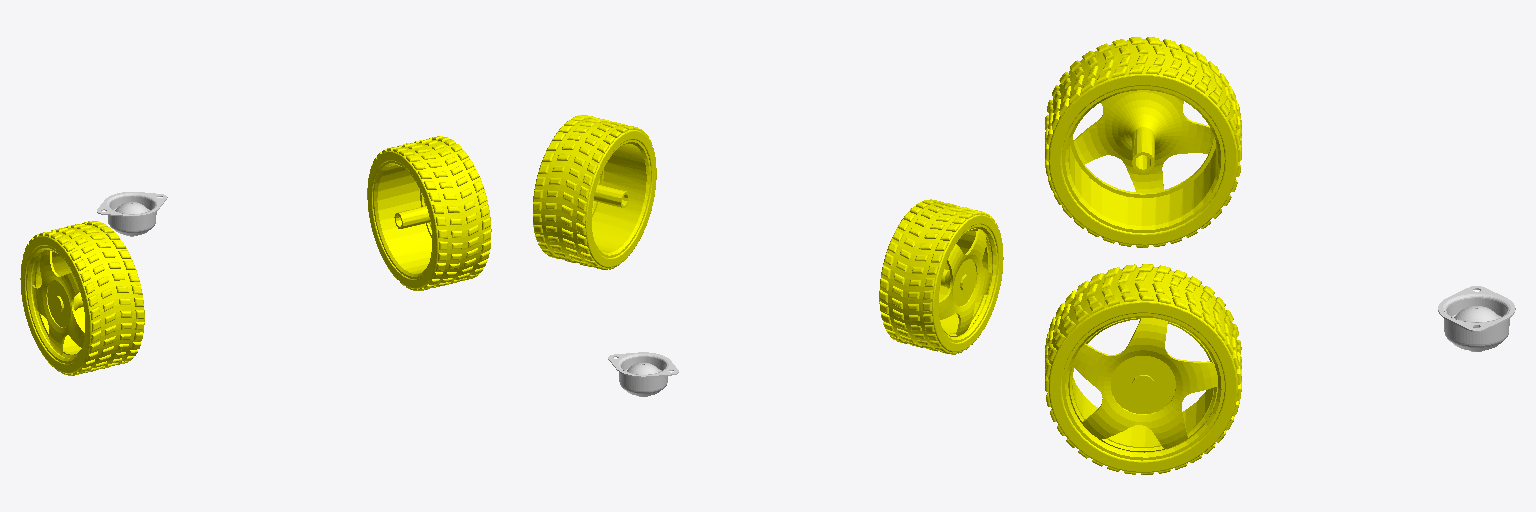
The robot description file, URDF, robot "URDF":
<?xml version="1.0" encoding="utf-8"?>
<!-- This URDF was automatically created by SolidWorks to URDF Exporter! Originally created by [author] ([email redacted]) 
     Commit Version: 1.6.0-4-g7f85cfe  Build Version: 1.6.7995.38578
     For more information, please see http://wiki.ros.org/sw_urdf_exporter -->
<robot
  name="URDF">
  <link
    name="base_link">
    <inertial>
      <origin
        xyz="0.082715 0.098266 0.1941"
        rpy="0 0 0" />
      <mass
        value="0.44989" />
      <inertia
        ixx="0.001472"
        ixy="-7.3863E-09"
        ixz="-1.5206E-07"
        iyy="0.0022027"
        iyz="-1.6436E-06"
        izz="0.00074159" />
    </inertial>
    <visual>
      <origin
        xyz="0 0 0"
        rpy="0 0 0" />
      <geometry>
        <mesh
          filename="package://URDF/meshes/base_link.STL" />
      </geometry>
      <material
        name="">
        <color
          rgba="0.53725 0.34902 0.33725 1" />
      </material>
    </visual>
    <collision>
      <origin
        xyz="0 0 0"
        rpy="0 0 0" />
      <geometry>
        <mesh
          filename="package://URDF/meshes/base_link.STL" />
      </geometry>
    </collision>
  </link>
  <link
    name="Roda1_Link">
    <inertial>
      <origin
        xyz="-6.5174E-10 3.7783E-09 0.017937"
        rpy="0 0 0" />
      <mass
        value="0.050589" />
      <inertia
        ixx="2.8263E-05"
        ixy="8.4339E-13"
        ixz="8.5498E-13"
        iyy="2.8263E-05"
        iyz="-2.16E-12"
        izz="4.8345E-05" />
    </inertial>
    <visual>
      <origin
        xyz="0 0 0"
        rpy="0 0 0" />
      <geometry>
        <mesh
          filename="package://URDF/meshes/Roda1_Link.STL" />
      </geometry>
      <material
        name="">
        <color
          rgba="1 1 0 1" />
      </material>
    </visual>
    <collision>
      <origin
        xyz="0 0 0"
        rpy="0 0 0" />
      <geometry>
        <mesh
          filename="package://URDF/meshes/Roda1_Link.STL" />
      </geometry>
    </collision>
  </link>
  <joint
    name="1"
    type="revolute">
    <origin
      xyz="0.16374 -0.25557 0.1114"
      rpy="1.5708 -1.1623 1.5708" />
    <parent
      link="base_link" />
    <child
      link="Roda1_Link" />
    <axis
      xyz="0 0 1" />
    <limit
      lower="0"
      upper="0"
      effort="0"
      velocity="0" />
  </joint>
  <link
    name="Roda2_Link">
    <inertial>
      <origin
        xyz="-2.5376E-09 -1.8066E-09 0.015802"
        rpy="0 0 0" />
      <mass
        value="0.050589" />
      <inertia
        ixx="2.8263E-05"
        ixy="-2.3387E-12"
        ixz="1.7915E-12"
        iyy="2.8263E-05"
        iyz="1.1895E-12"
        izz="4.8345E-05" />
    </inertial>
    <visual>
      <origin
        xyz="0 0 0"
        rpy="0 0 0" />
      <geometry>
        <mesh
          filename="package://URDF/meshes/Roda2_Link.STL" />
      </geometry>
      <material
        name="">
        <color
          rgba="1 1 0 1" />
      </material>
    </visual>
    <collision>
      <origin
        xyz="0 0 0"
        rpy="0 0 0" />
      <geometry>
        <mesh
          filename="package://URDF/meshes/Roda2_Link.STL" />
      </geometry>
    </collision>
  </link>
  <joint
    name="2"
    type="revolute">
    <origin
      xyz="0 -0.25557 0.1114"
      rpy="1.5708 -0.58968 -1.5708" />
    <parent
      link="base_link" />
    <child
      link="Roda2_Link" />
    <axis
      xyz="0 0 1" />
    <limit
      lower="0"
      upper="0"
      effort="0"
      velocity="0" />
  </joint>
  <link
    name="Suporte1_Link">
    <inertial>
      <origin
        xyz="6.9389E-17 0.010443 0"
        rpy="0 0 0" />
      <mass
        value="0.0058068" />
      <inertia
        ixx="4.7315E-07"
        ixy="5.5229E-22"
        ixz="5.9902E-23"
        iyy="8.0601E-07"
        iyz="1.415E-22"
        izz="5.6694E-07" />
    </inertial>
    <visual>
      <origin
        xyz="0 0 0"
        rpy="0 0 0" />
      <geometry>
        <mesh
          filename="package://URDF/meshes/Suporte1_Link.STL" />
      </geometry>
      <material
        name="">
        <color
          rgba="0.89804 0.89804 0.89804 1" />
      </material>
    </visual>
    <collision>
      <origin
        xyz="0 0 0"
        rpy="0 0 0" />
      <geometry>
        <mesh
          filename="package://URDF/meshes/Suporte1_Link.STL" />
      </geometry>
    </collision>
  </link>
  <joint
    name="3"
    type="fixed">
    <origin
      xyz="0.083085 -0.13382 0.094937"
      rpy="-1.5708 0 0" />
    <parent
      link="base_link" />
    <child
      link="Suporte1_Link" />
    <axis
      xyz="0 0 0" />
  </joint>
  <link
    name="Suporte2_Link">
    <inertial>
      <origin
        xyz="2.7756E-17 -0.0018442 0"
        rpy="0 0 0" />
      <mass
        value="0.0041821" />
      <inertia
        ixx="2.0974E-07"
        ixy="-8.1817E-24"
        ixz="1.1911E-22"
        iyy="3.8569E-07"
        iyz="2.3864E-23"
        izz="2.0974E-07" />
    </inertial>
    <visual>
      <origin
        xyz="0 0 0"
        rpy="0 0 0" />
      <geometry>
        <mesh
          filename="package://URDF/meshes/Suporte2_Link.STL" />
      </geometry>
      <material
        name="">
        <color
          rgba="0.89804 0.89804 0.89804 1" />
      </material>
    </visual>
    <collision>
      <origin
        xyz="0 0 0"
        rpy="0 0 0" />
      <geometry>
        <mesh
          filename="package://URDF/meshes/Suporte2_Link.STL" />
      </geometry>
    </collision>
  </link>
  <joint
    name="4"
    type="fixed">
    <origin
      xyz="0.083085 -0.13382 0.084937"
      rpy="-1.5708 0 2.5629" />
    <parent
      link="base_link" />
    <child
      link="Suporte2_Link" />
    <axis
      xyz="0 0 0" />
  </joint>
  <link
    name="Esfera_Link">
    <inertial>
      <origin
        xyz="0.0025946 -0.00054108 0.0020019"
        rpy="0 0 0" />
      <mass
        value="0.010855" />
      <inertia
        ixx="2.0829E-07"
        ixy="-4.9631E-23"
        ixz="1.9852E-23"
        iyy="2.0829E-07"
        iyz="-6.6174E-24"
        izz="2.0829E-07" />
    </inertial>
    <visual>
      <origin
        xyz="0 0 0"
        rpy="0 0 0" />
      <geometry>
        <mesh
          filename="package://URDF/meshes/Esfera_Link.STL" />
      </geometry>
      <material
        name="">
        <color
          rgba="0.89804 0.89804 0.89804 1" />
      </material>
    </visual>
    <collision>
      <origin
        xyz="0 0 0"
        rpy="0 0 0" />
      <geometry>
        <mesh
          filename="package://URDF/meshes/Esfera_Link.STL" />
      </geometry>
    </collision>
  </link>
  <joint
    name="5"
    type="continuous">
    <origin
      xyz="0 0.0013305 0"
      rpy="-0.053191 0.6634 1.7018" />
    <parent
      link="Suporte2_Link" />
    <child
      link="Esfera_Link" />
    <axis
      xyz="0.45924 -0.50408 -0.73144" />
  </joint>
</robot>

--- Render facts (derived) ---
Views: 3 orthographic renders of the robot side by side, from view 1: azimuth 30°, elevation 25°; view 2: azimuth 150°, elevation 25°; view 3: azimuth 270°, elevation 25°.
Robot: URDF — 6 links, 5 joints (2 revolute, 1 continuous, 2 fixed); root link base_link; default pose: every joint at zero.
Links seen in each view (by area): view 1: Roda1_Link, Roda2_Link, Suporte1_Link, Suporte2_Link; view 2: Roda2_Link, Roda1_Link, Suporte1_Link, Suporte2_Link; view 3: Roda2_Link, Roda1_Link, Suporte1_Link, Suporte2_Link.
Boxes of the visible links, left/top/right/bottom form: Roda1_Link: left=367, top=136, right=491, bottom=290; Roda2_Link: left=20, top=221, right=144, bottom=375; Suporte1_Link: left=97, top=192, right=167, bottom=235; Suporte2_Link: left=107, top=193, right=156, bottom=213; Roda2_Link: left=879, top=199, right=1003, bottom=354; Roda1_Link: left=533, top=115, right=656, bottom=269; Suporte1_Link: left=608, top=352, right=678, bottom=395; Suporte2_Link: left=619, top=354, right=667, bottom=374; Roda2_Link: left=1045, top=37, right=1241, bottom=247; Roda1_Link: left=1045, top=264, right=1241, bottom=474; Suporte1_Link: left=1438, top=286, right=1515, bottom=350; Suporte2_Link: left=1444, top=294, right=1509, bottom=322.
Size in the robot's own frame: 0.2272 by 0.172 by 0.0741 metres.
Meshes: 6 distinct files referenced, 5 mesh visuals loaded (5 binary STL); not drawn: 1 (reference not matched to a file when rendering).